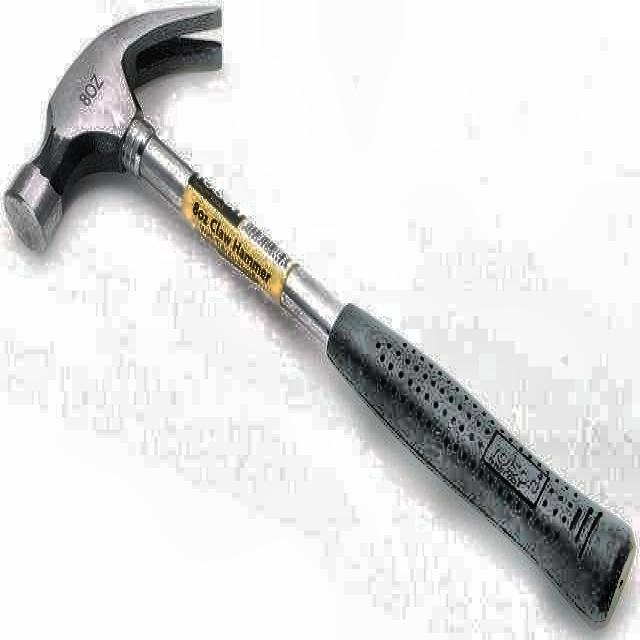hammer: (2, 4, 634, 628)
